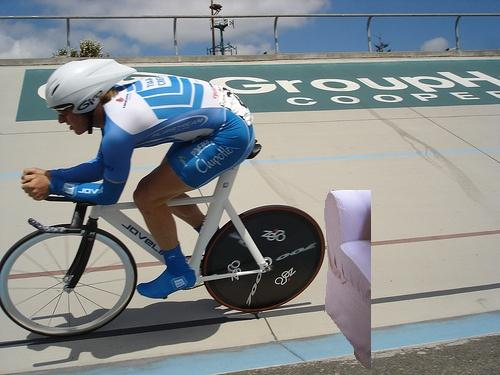tampered: (325, 191, 371, 369)
